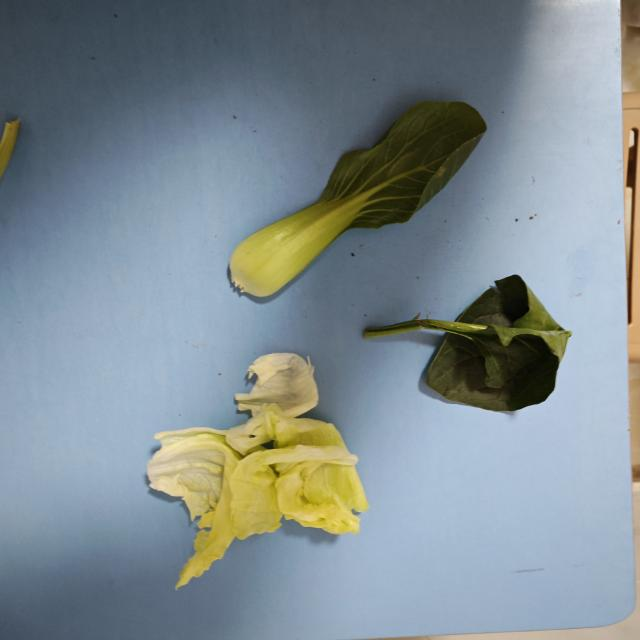-Kitchen waste - vegetable roots and leaves-: (147, 350, 370, 594), (229, 95, 490, 296), (367, 273, 571, 415)
